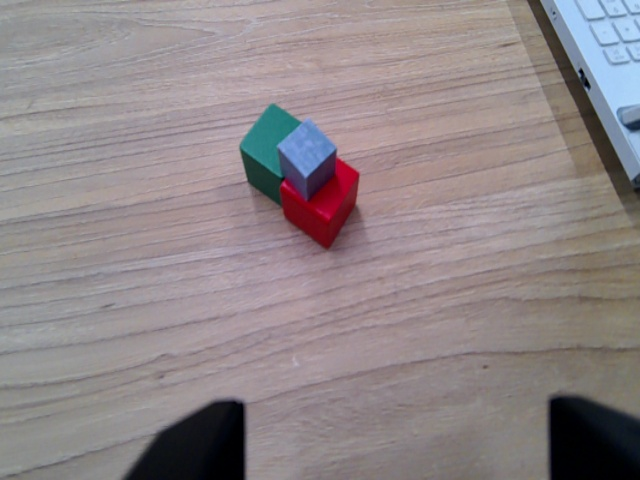stone: (272, 117, 342, 203)
